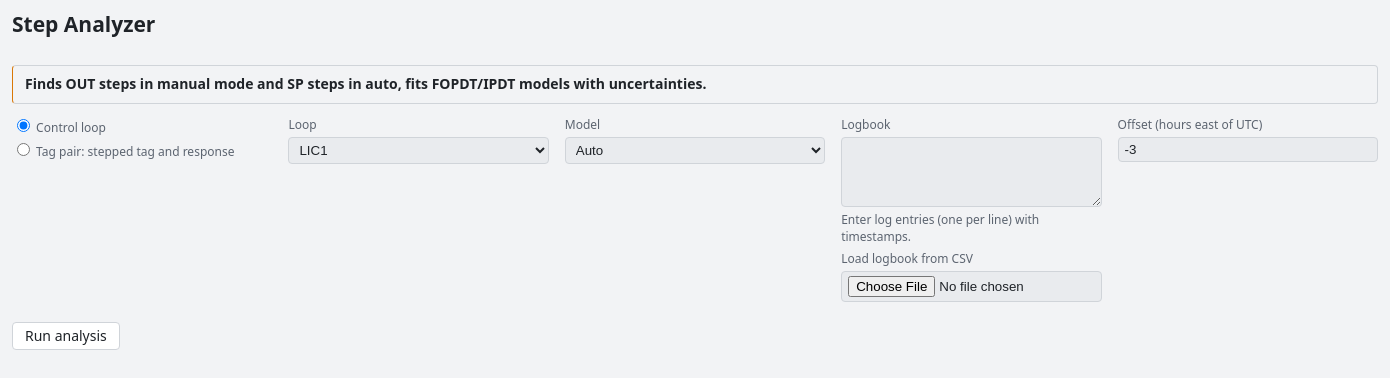
Test: stepsTarget_ target choice › stepsTarget_ shows the two tag selects and hides the loop select in tag mode
The image size is (1390, 378).
Click the radio button labelled "Tag pair: stepped tag and response". click: (24, 150)
box: [17,143,30,156]
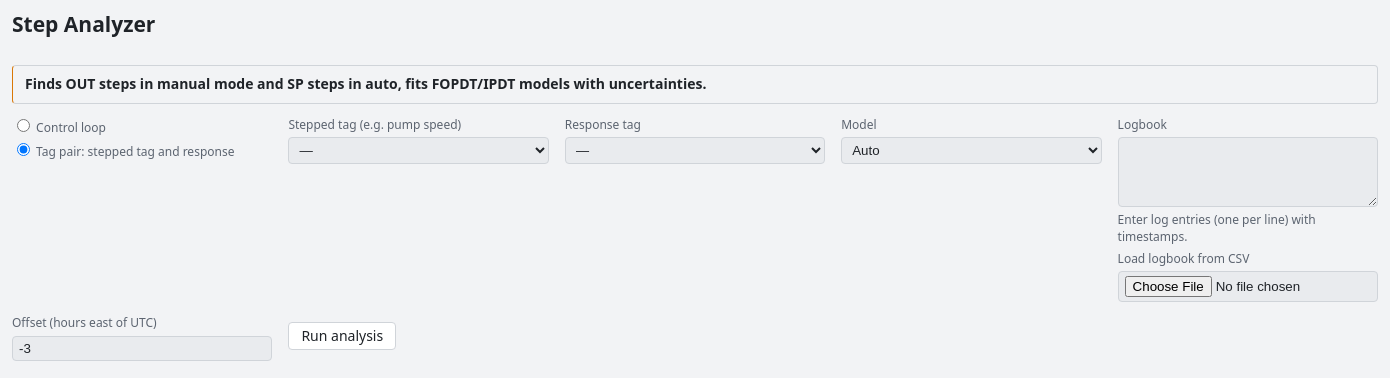
Result: the dropdown labelled "Stepped tag (e.g. pump speed)" is shown at [288,137,549,164]
Result: the dropdown labelled "Response tag" is shown at [565,137,825,164]
